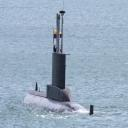submarine: (25, 11, 96, 115)
